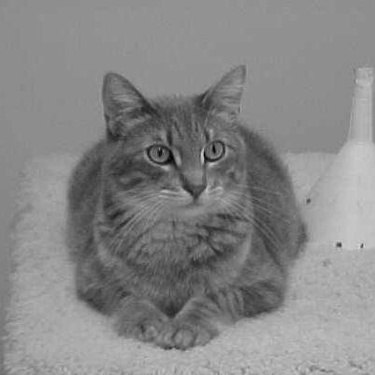cat: (34, 59, 306, 349)
